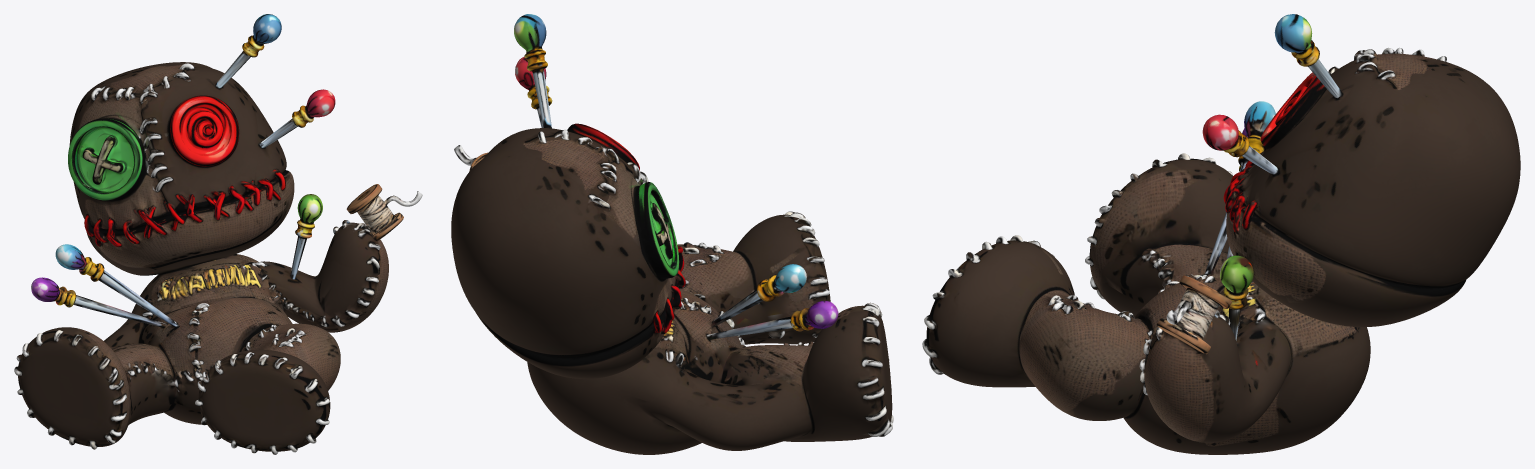
File: pixellabs-voodoo-3762.high.glb
The picture shows the model from 3 angles, left to right: view 1: azimuth 30°, elevation 25°; view 2: azimuth 150°, elevation 25°; view 3: azimuth 270°, elevation 25°; orthographic projection. The views are drawn at different scales.
Visible parts, largest first — view 1: material; view 2: material; view 3: material.
Boxes of the visible parts, x1,y1,x2,y2 form: material: [14, 14, 422, 454]; material: [451, 14, 893, 454]; material: [922, 14, 1520, 454].
Bounding box in the file's own units: 1.02 × 0.9044 × 1.02.
Materials: 1 (1 with a texture image).
